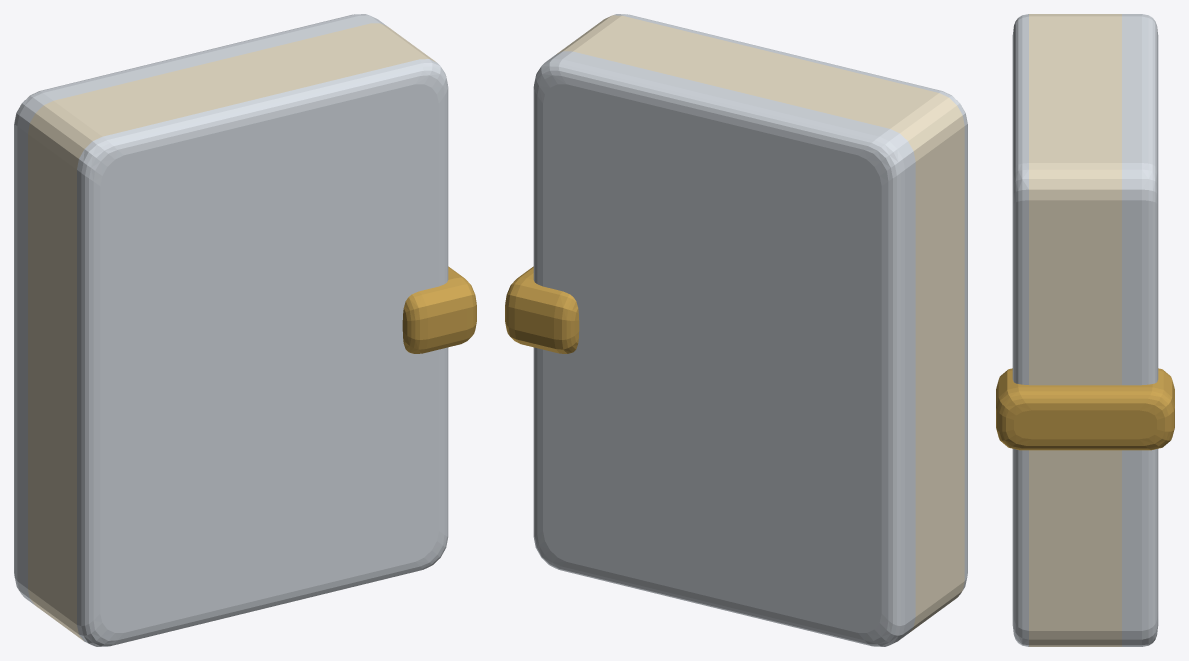
The model's file is PropLedger.obj.
3 views of the same model, side by side, from view 1: azimuth 30°, elevation 25°; view 2: azimuth 150°, elevation 25°; view 3: azimuth 270°, elevation 25° (orthographic). The views are drawn at different scales.
Bounding box in the file's own units: 0.76 × 0.95 × 0.32.
